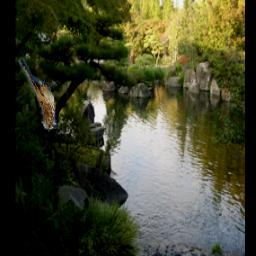Sparrow: (17, 57, 57, 130)
